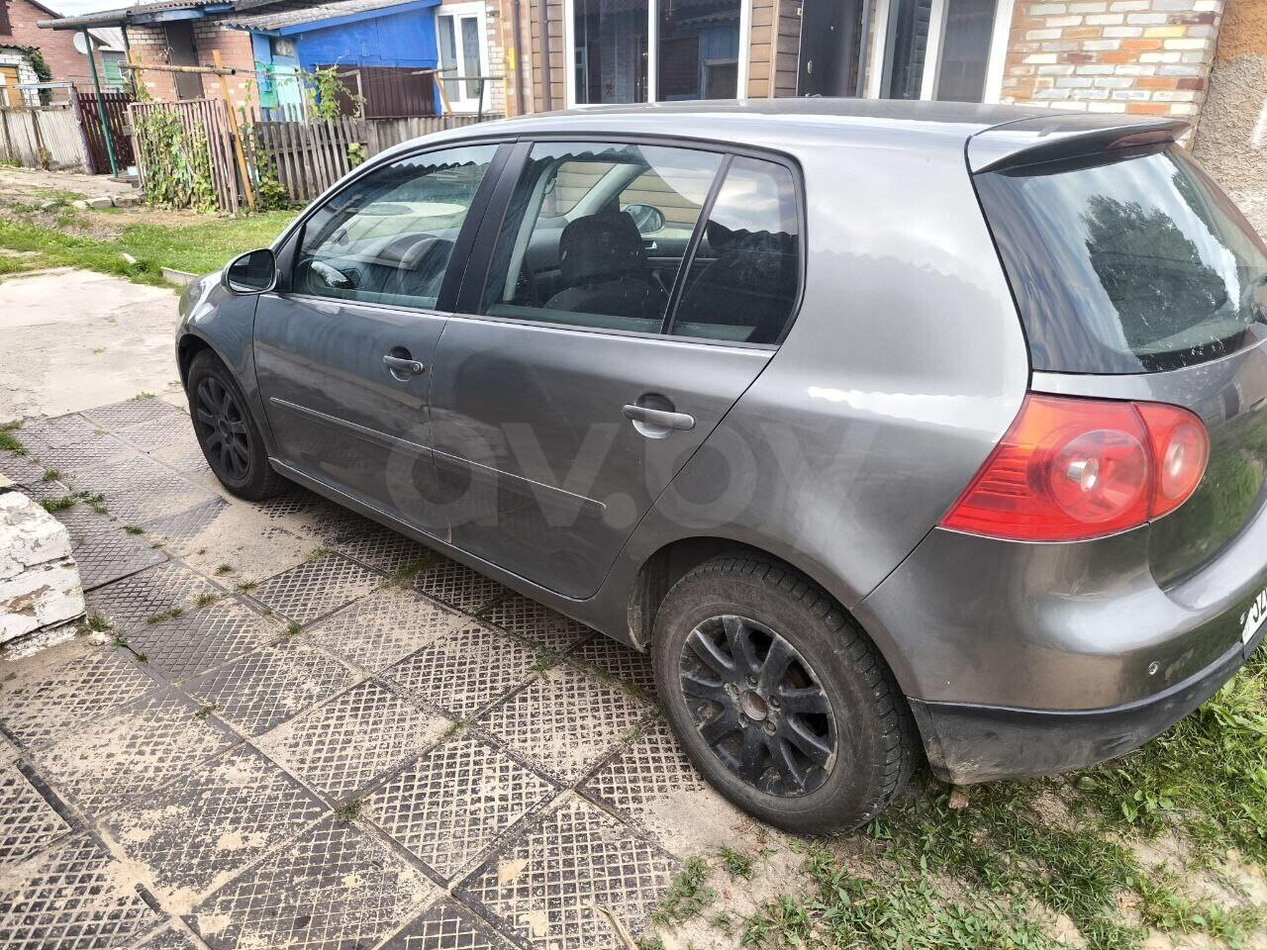Golf_2003-2009: (170, 91, 1267, 833)
